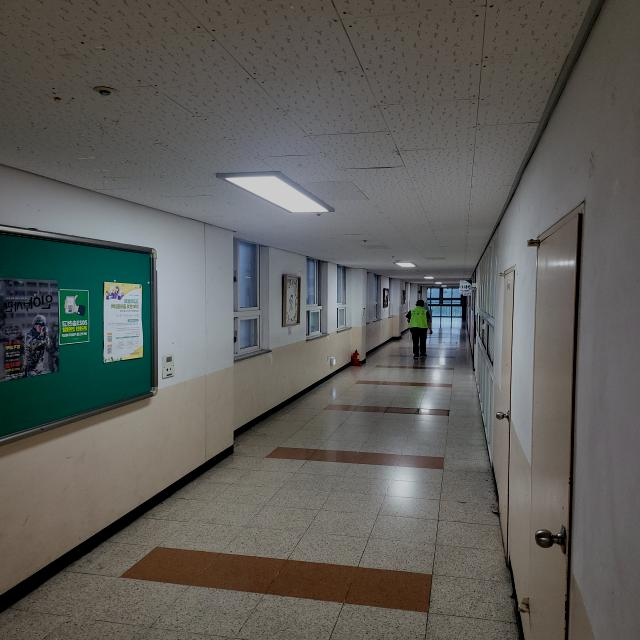weston_spy: (398, 300, 432, 334)
